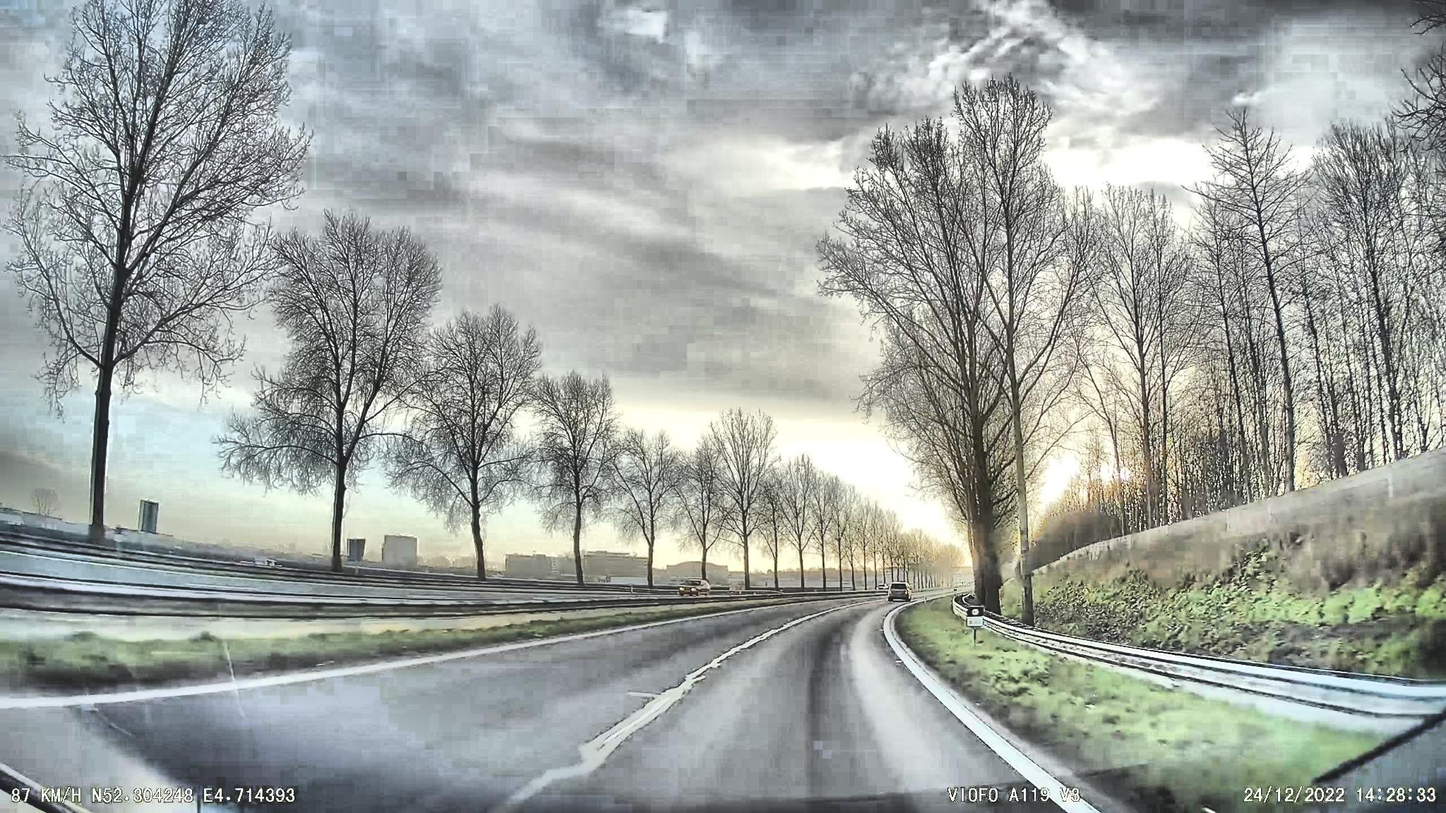Roads: (0, 598, 1191, 813)
